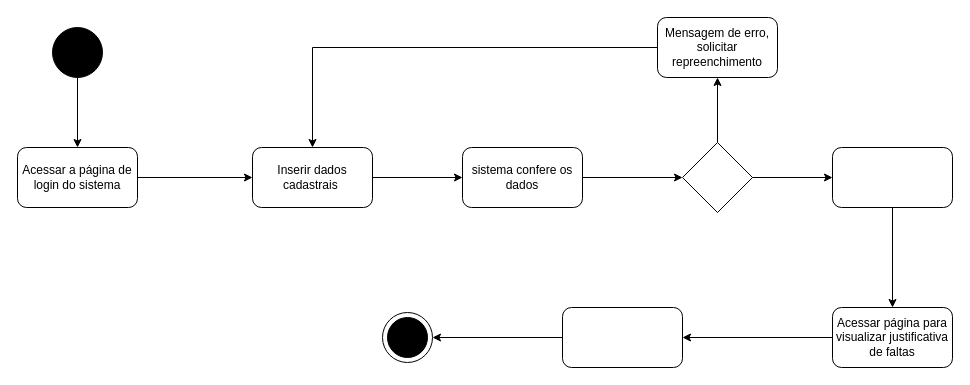
This 970x385 diagram has some shape labels left out. Each missing label, with the centre of its shape:
"Direcionado à página principal" belongs at (892,177).
"Sistema disponibiliza o download de arquivo dos docentes" belongs at (622,337).
